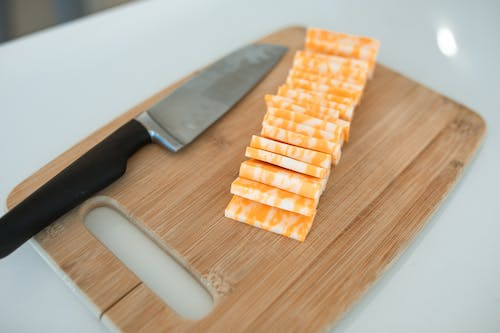knife: (0, 39, 289, 258)
